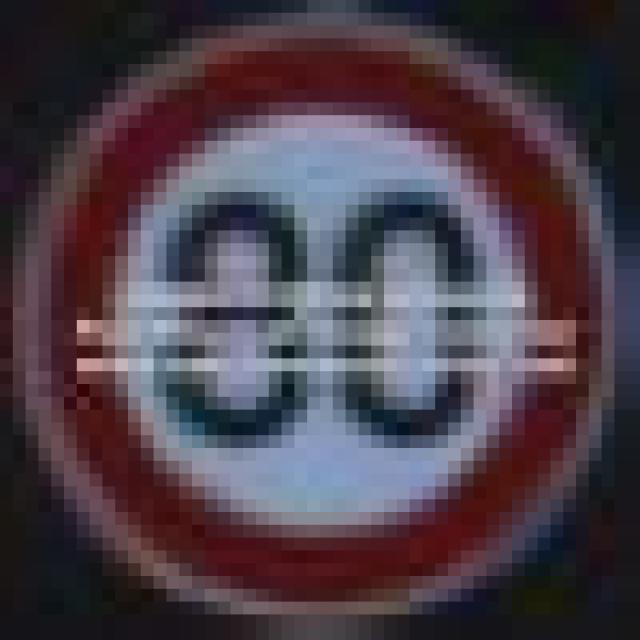SPEED_LIMIT_80: (11, 23, 619, 626)
